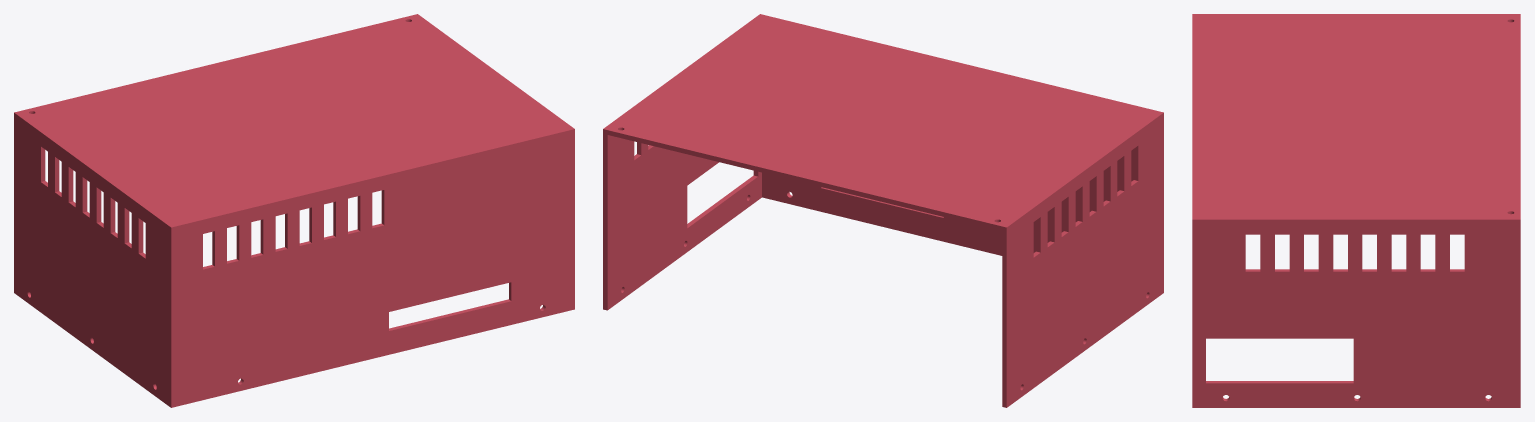
The model's file is rav_frame_top_common_RPI_noHat.glb.
3 views of the same model, side by side, from view 1: azimuth 30°, elevation 25°; view 2: azimuth 150°, elevation 25°; view 3: azimuth 270°, elevation 25° (orthographic). The views are drawn at different scales.
Visible parts, largest first — view 1: Mesh_Mesh_head_geo.001_lambert2SG.001; view 2: Mesh_Mesh_head_geo.001_lambert2SG.001; view 3: Mesh_Mesh_head_geo.001_lambert2SG.001.
Boxes of the visible parts, x1,y1,x2,y2 form: Mesh_Mesh_head_geo.001_lambert2SG.001: [14, 14, 574, 407]; Mesh_Mesh_head_geo.001_lambert2SG.001: [603, 14, 1163, 407]; Mesh_Mesh_head_geo.001_lambert2SG.001: [1192, 14, 1520, 407].
Size of the model in its own units: 0.178 by 0.076 by 0.12.
